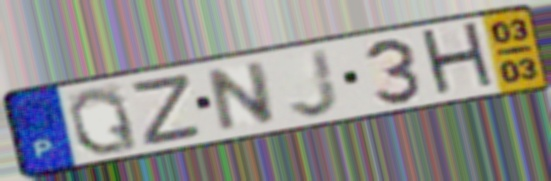3: (360, 34, 426, 108)
H: (416, 18, 500, 102)
J: (286, 46, 343, 120)
N: (205, 57, 279, 136)
Q: (64, 84, 142, 157)
Z: (130, 70, 205, 149)
